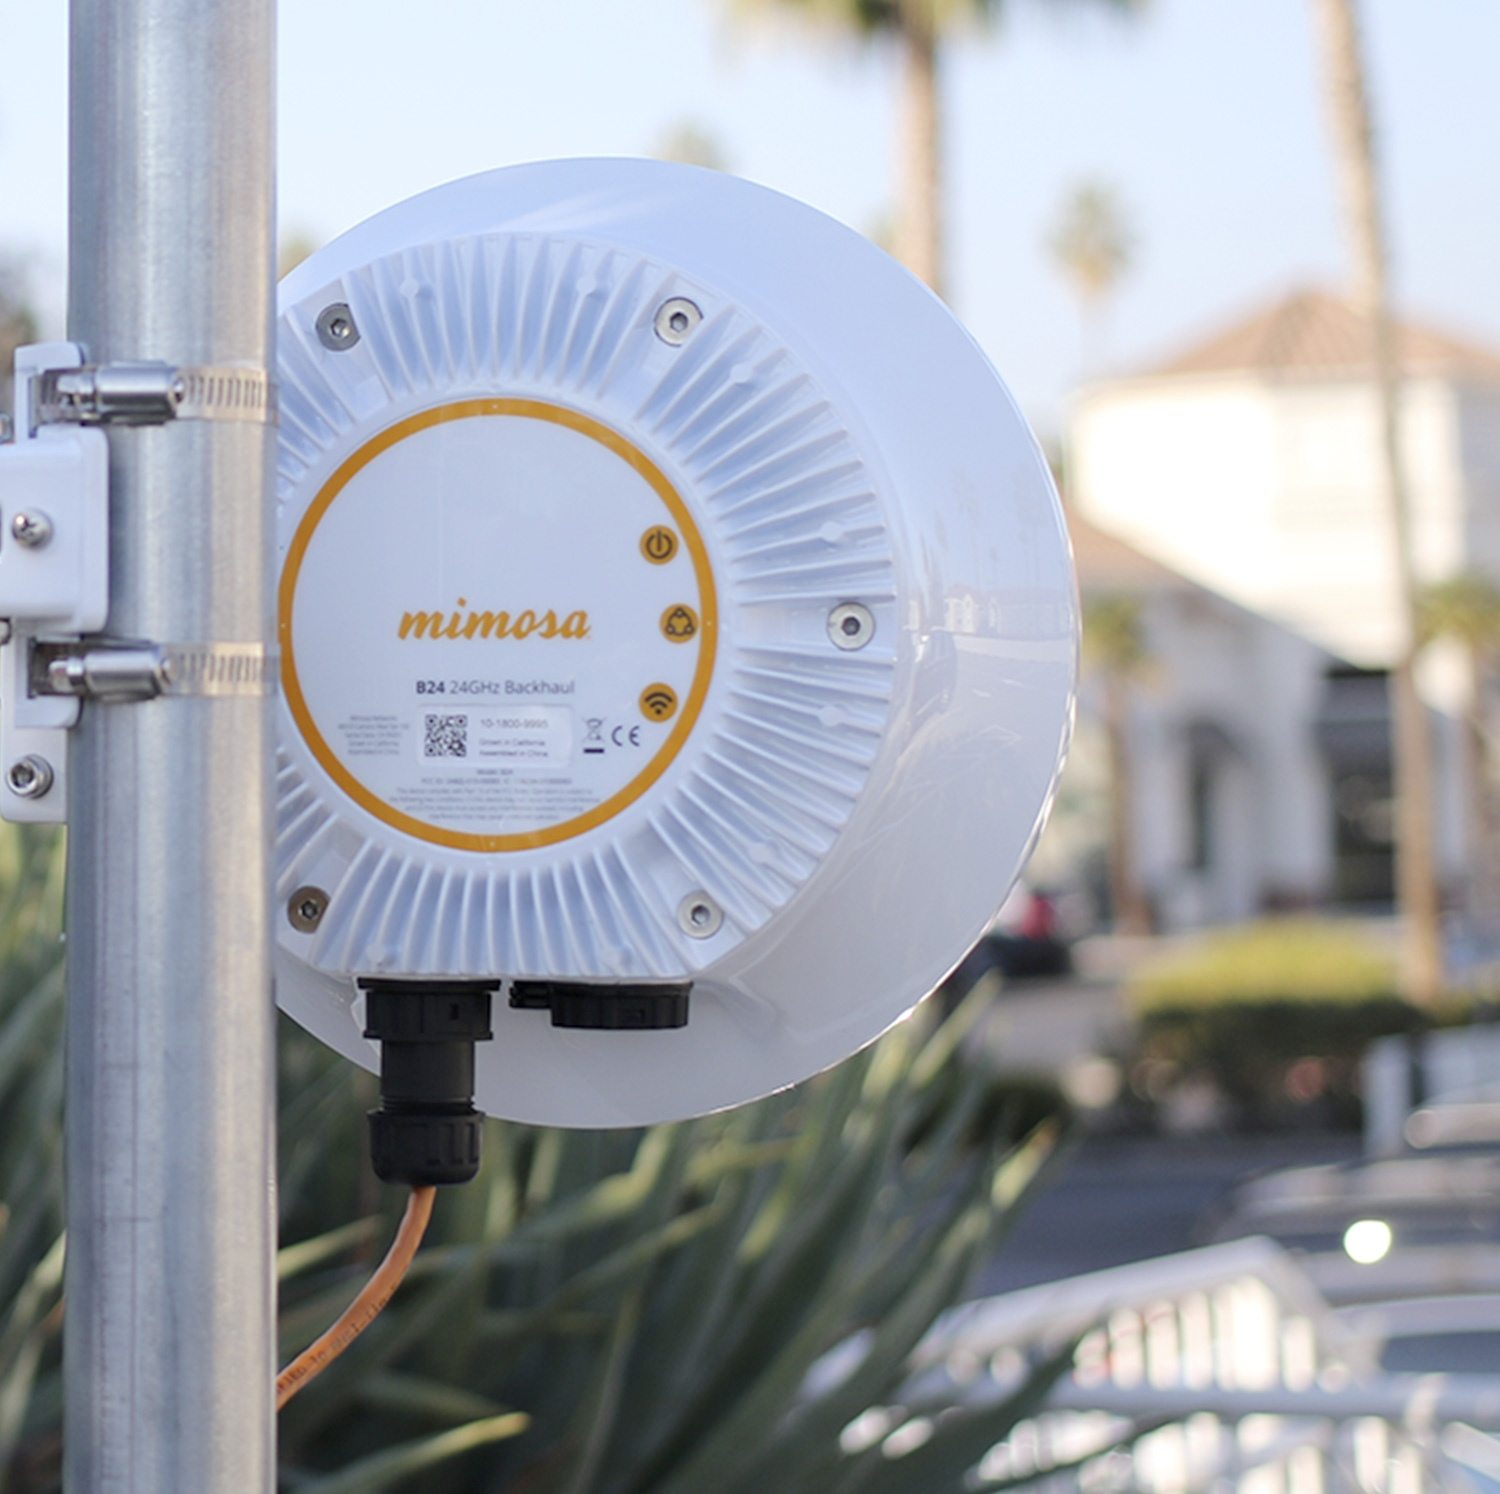ba: (156, 120, 1100, 1177)
